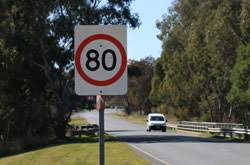Speed_limit_80km: (75, 34, 126, 86)
